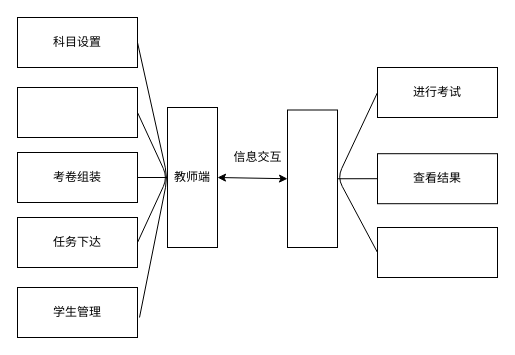
This 515x355 diagram has some shape labels left out. The centre of each missing label's shape, as x and y in pixels:
学生端: [312,178]
错题回顾: [437,252]
题目设计: [77,112]
